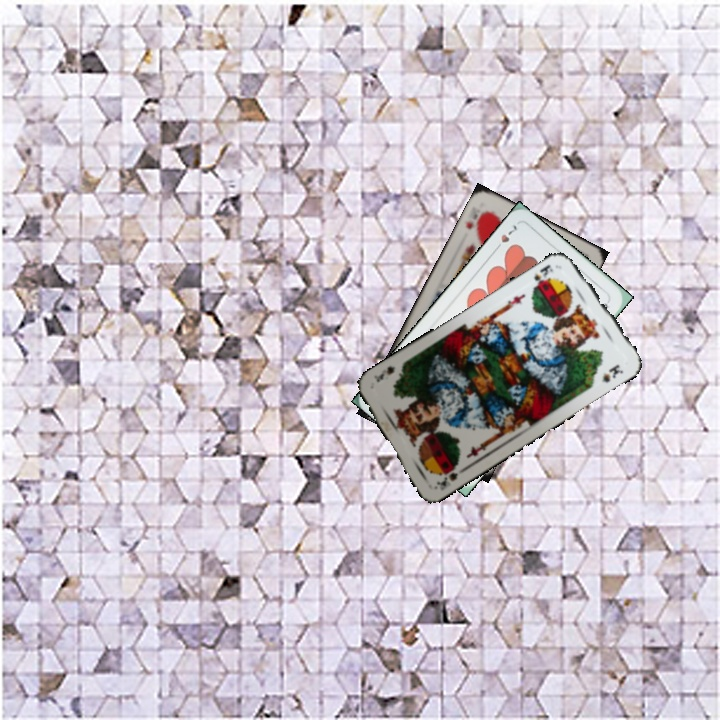H7: (490, 220, 519, 254)
HK: (461, 206, 489, 234)
SK: (433, 460, 469, 493), (530, 260, 556, 290)
